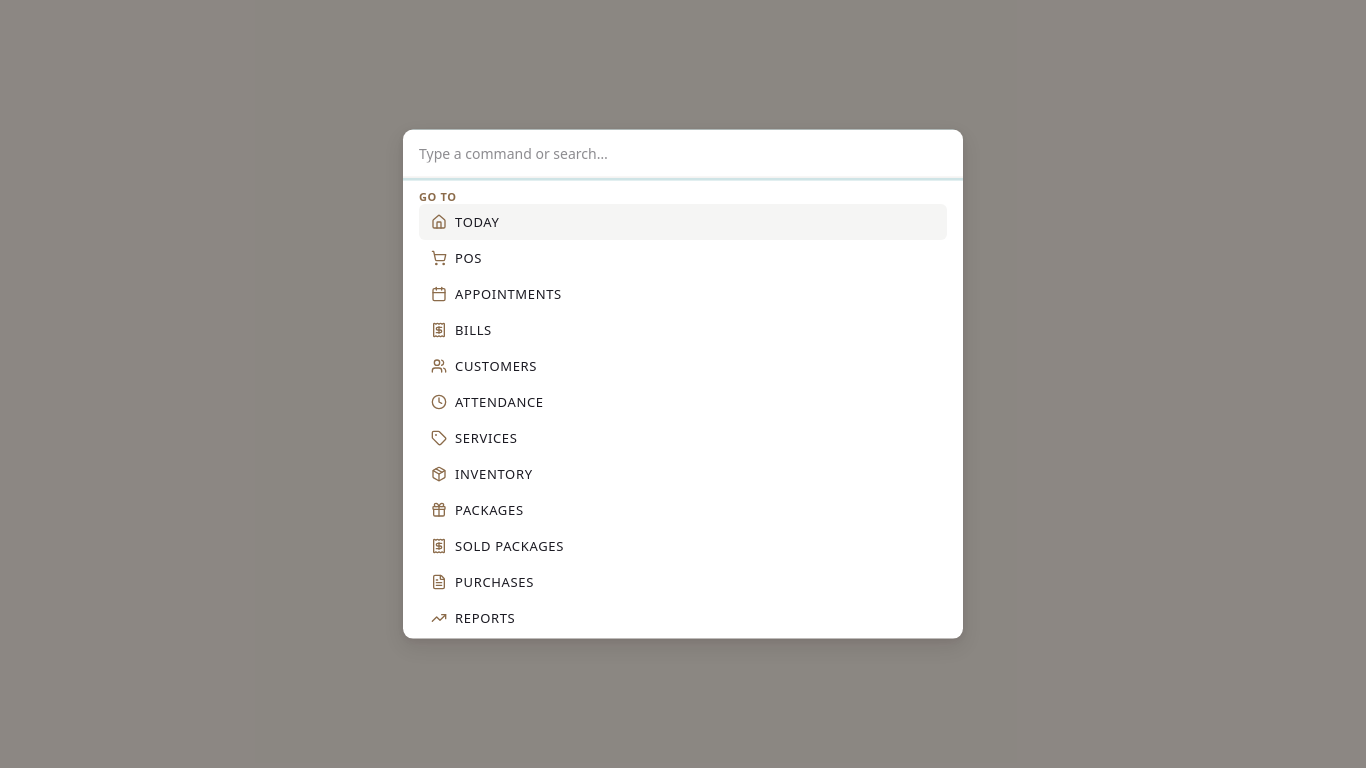
Test: CommandPalette search providers › queries customers when input is non-empty and renders matches
Type "priya" into the dropdown with placeholder "Type a command or search…".
click(683, 154); type("priya")  # box [403,130,963,178]
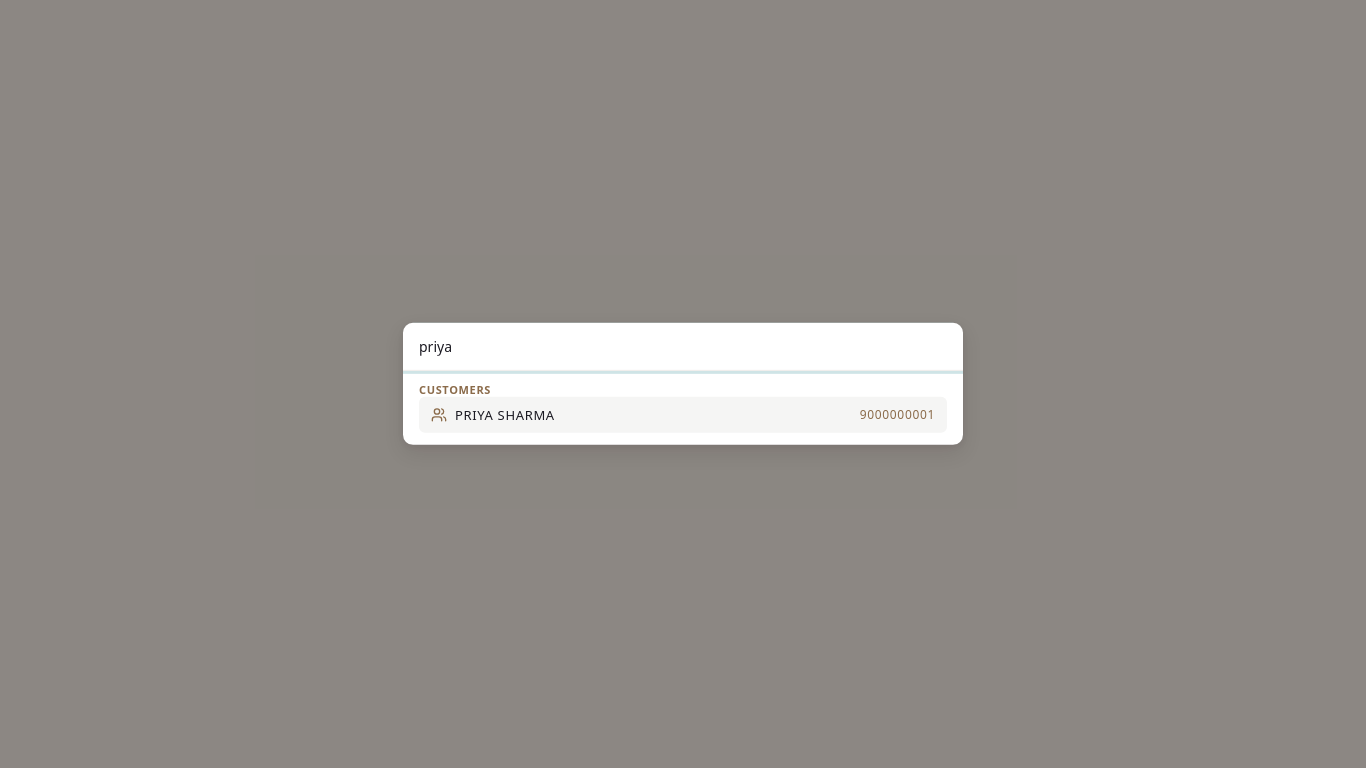
Expected: the text "Priya Sharma" is shown, [455,406,555,424]
